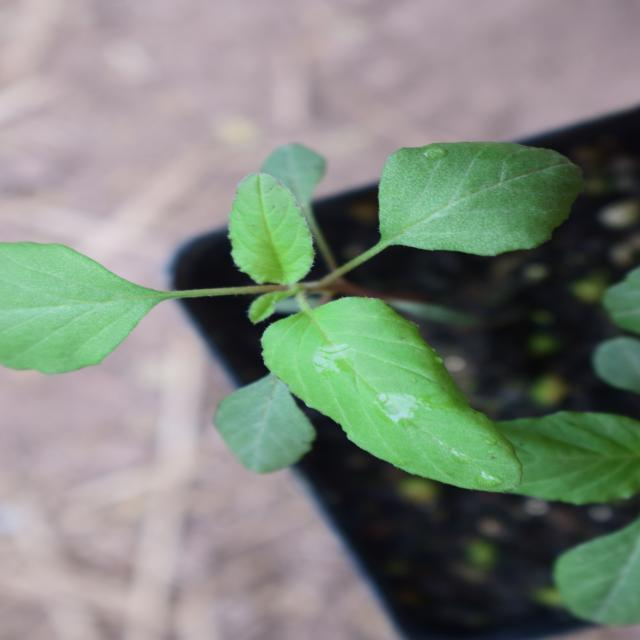pigweed: (146, 2, 506, 584)
